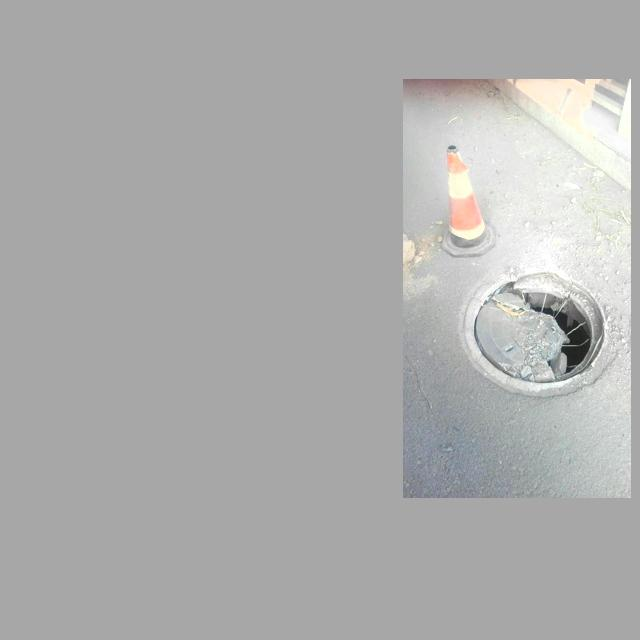broke: (458, 256, 624, 393)
